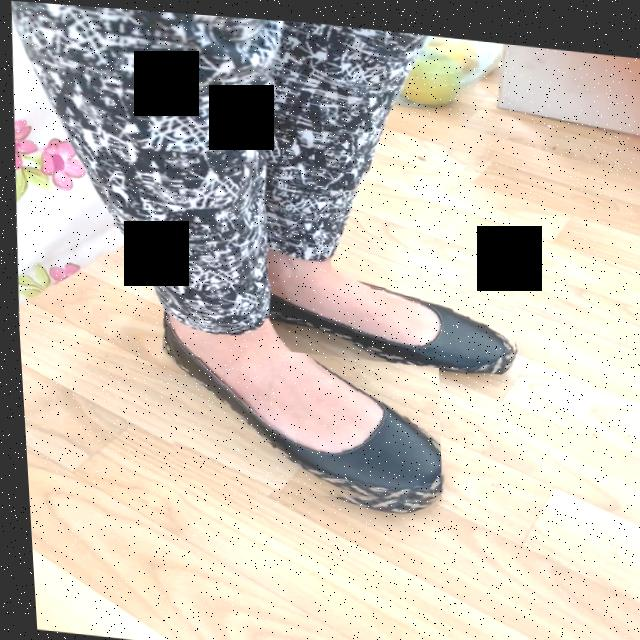shoe: (157, 308, 436, 496), (264, 247, 511, 367)
